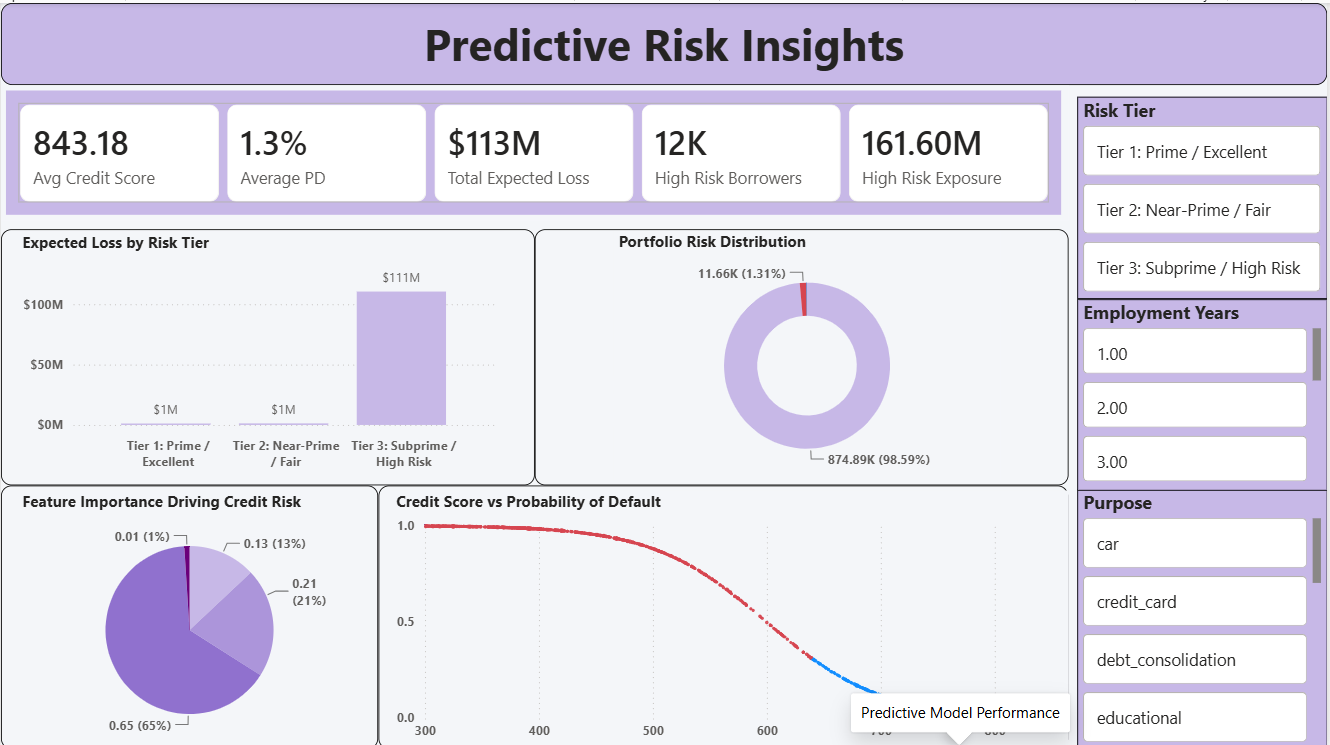

The page's visual inventory and layout, read from the dashboard file:
{"tool":"powerbi","page":{"name":"Predictive Model Performance","canvas":[1280,720],"ordinal":3},"visuals":[{"type":"textbox","box":[0,0,1280.3,79.5],"z":0},{"type":"cardVisual","fields":{"Data":["creditriskdb underwritten_portfolio_scored.Avg Credit Score","creditriskdb underwritten_portfolio_scored.Average PD","creditriskdb underwritten_portfolio_scored.Total Expected Loss","creditriskdb underwritten_portfolio_scored.High Risk Borrowers","creditriskdb underwritten_portfolio_scored.High Risk Exposure"]},"box":[0,79.6,1030.3,130.3],"z":1000},{"type":"advancedSlicerVisual","title":"Risk Tier","fields":{"Values":["creditriskdb underwritten_portfolio_scored.predictive_risk_tier"]},"box":[1038.7,90.5,241.3,195.4],"z":2000},{"type":"advancedSlicerVisual","title":"Purpose","fields":{"Values":["creditriskdb underwritten_portfolio_scored.purpose"]},"box":[1038.7,469.3,241.3,250.9],"z":3000},{"type":"donutChart","title":"Portfolio Risk Distribution","fields":{"Category":["creditriskdb underwritten_portfolio_scored.predictive_risk_tier"],"Y":["Count(creditriskdb underwritten_portfolio_scored.member_id)"]},"box":[591.2,219.6,374,241.3],"z":4000},{"type":"textbox","box":[0,218.4,515.2,247.3],"z":5000},{"type":"pieChart","title":"Feature Importance Driving Credit Risk","fields":{"Y":["creditriskdb underwritten_portfolio_scored.DTI Ratio","creditriskdb underwritten_portfolio_scored.Emp Years","creditriskdb underwritten_portfolio_scored.Deliquency","creditriskdb underwritten_portfolio_scored.LTI"]},"box":[15.7,470.5,333,249.7],"z":6000},{"type":"textbox","box":[0,465.7,364.3,254.6],"z":7000},{"type":"textbox","box":[364.3,465.7,666,254.6],"z":8000},{"type":"clusteredColumnChart","title":"Expected Loss by Risk Tier","fields":{"Category":["creditriskdb underwritten_portfolio_scored.Risk Tier"],"Y":["creditriskdb underwritten_portfolio_scored.Total Expected Loss"]},"box":[15.7,220.8,469.3,237.7],"z":9000},{"type":"advancedSlicerVisual","title":"Employment Years","fields":{"Values":["creditriskdb underwritten_portfolio_scored.Employement Years"]},"box":[1038.7,285.9,241.3,184.6],"z":10000},{"type":"textbox","box":[515.2,218.4,515.2,247.3],"z":11000},{"type":"scatterChart","title":"Credit Score vs Probability of Default","fields":{"X":["creditriskdb underwritten_portfolio_scored.credit_score"],"Y":["creditriskdb underwritten_portfolio_scored.probability_of_default"],"Series":["creditriskdb underwritten_portfolio_scored.Risk Tier"],"Size":["Sum(creditriskdb underwritten_portfolio_scored.loan_amnt)"]},"box":[376.4,470.5,653.9,249.7],"z":12000}]}

Visuals, with their boxes in screenshot pixels (x1, y1, x2, y2), scaled from the page's 1280x720 canvas onto the 1330x745 screenshot:
textbox: select_region(0, 0, 1329, 82)
cardVisual - creditriskdb underwritten_portfolio_scored.Avg Credit Score x creditriskdb underwritten_portfolio_scored.Average PD: select_region(0, 82, 1071, 217)
"Risk Tier" advancedSlicerVisual: select_region(1079, 94, 1329, 296)
"Purpose" advancedSlicerVisual: select_region(1079, 486, 1329, 744)
"Portfolio Risk Distribution" donutChart: select_region(614, 227, 1003, 477)
textbox: select_region(0, 226, 535, 482)
"Feature Importance Driving Credit Risk" pieChart: select_region(16, 487, 362, 744)
textbox: select_region(0, 482, 379, 744)
textbox: select_region(379, 482, 1071, 744)
"Expected Loss by Risk Tier" clusteredColumnChart: select_region(16, 228, 504, 474)
"Employment Years" advancedSlicerVisual: select_region(1079, 296, 1329, 487)
textbox: select_region(535, 226, 1071, 482)
"Credit Score vs Probability of Default" scatterChart: select_region(391, 487, 1071, 744)
